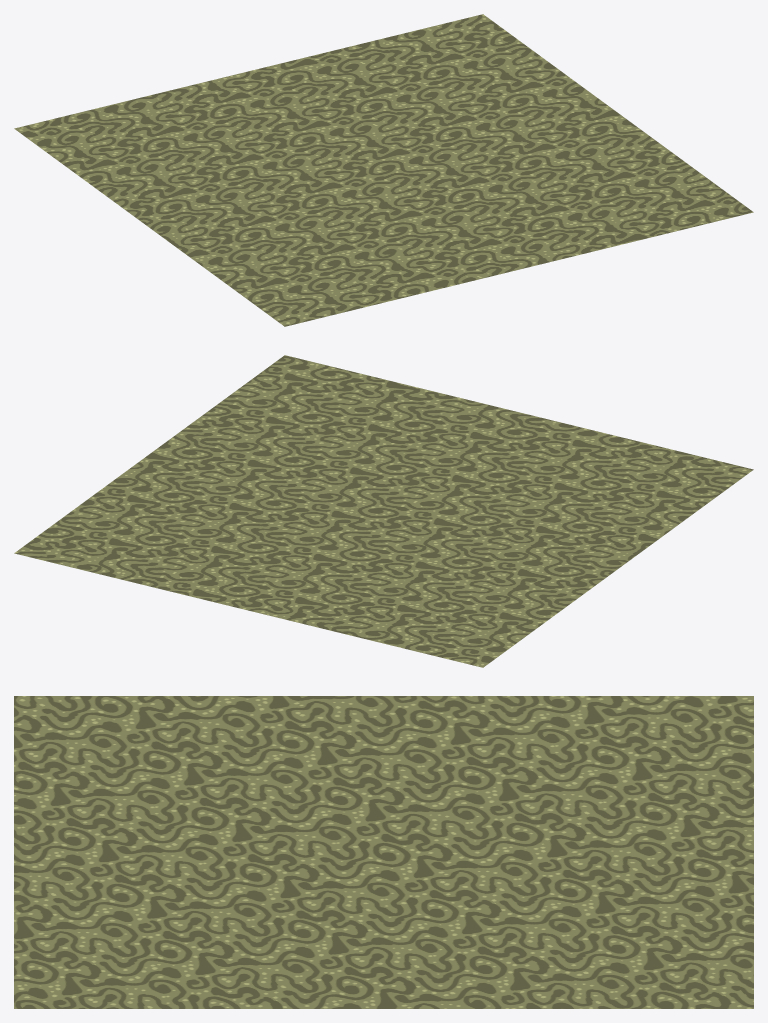
Rendered from forest.obj.
3 views of the same model, one above another, from view 1: azimuth 30°, elevation 25°; view 2: azimuth 150°, elevation 25°; view 3: azimuth 270°, elevation 25° (orthographic). The views are drawn at different scales.
Visible parts, largest first — view 1: Grid; view 2: Grid; view 3: Grid.
Part boxes in pixels (x1=…): Grid: x1=14, y1=14, x2=753, y2=326; Grid: x1=14, y1=355, x2=753, y2=667; Grid: x1=14, y1=696, x2=753, y2=1008.
Bounding box in the file's own units: 20 × 4e-06 × 20.
